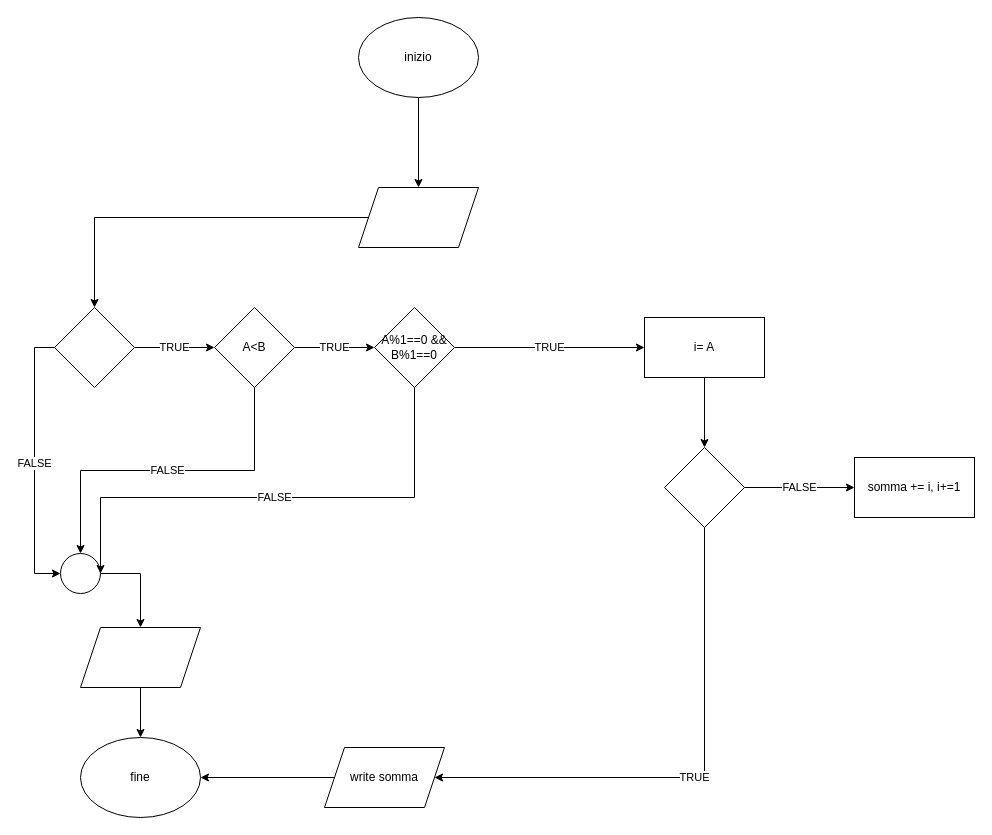
Some shapes in this 992 by 835 pixel diagram are drawn without their labels. The shapes that lost their labels are listed below. From the top down, each one's centre as x and y in pixels, then its label:
pixel 418 217: read A, B
pixel 94 347: A>0 && B>0
pixel 704 487: i>B
pixel 140 657: write errore
